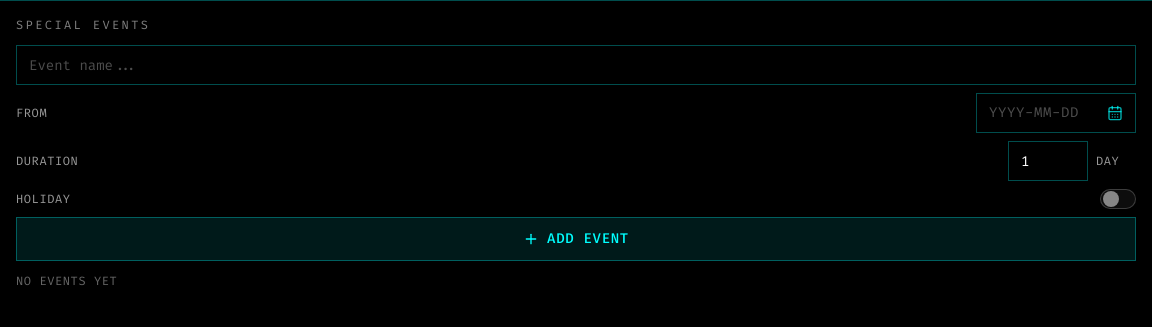
EventsPanel › rejects a submit without a start date
Click the button "ADD EVENT": (576, 239) top-left (16, 217), bottom-right (1136, 261)
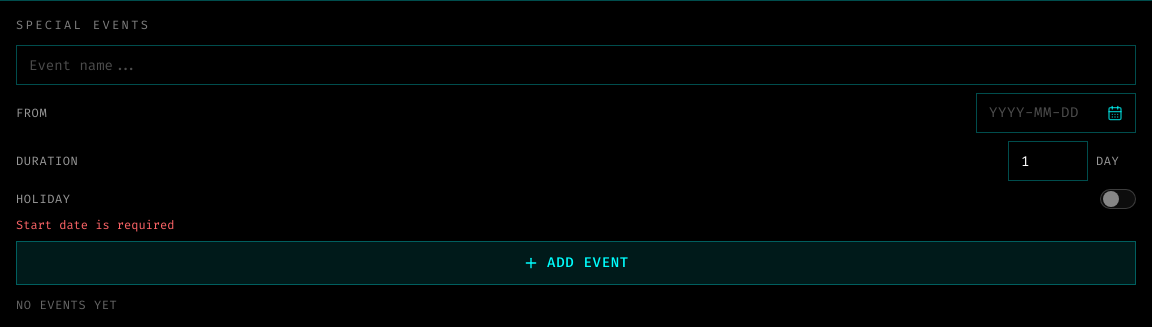
Expected: the text "Start date is required" is shown, top-left (16, 217), bottom-right (174, 233)
